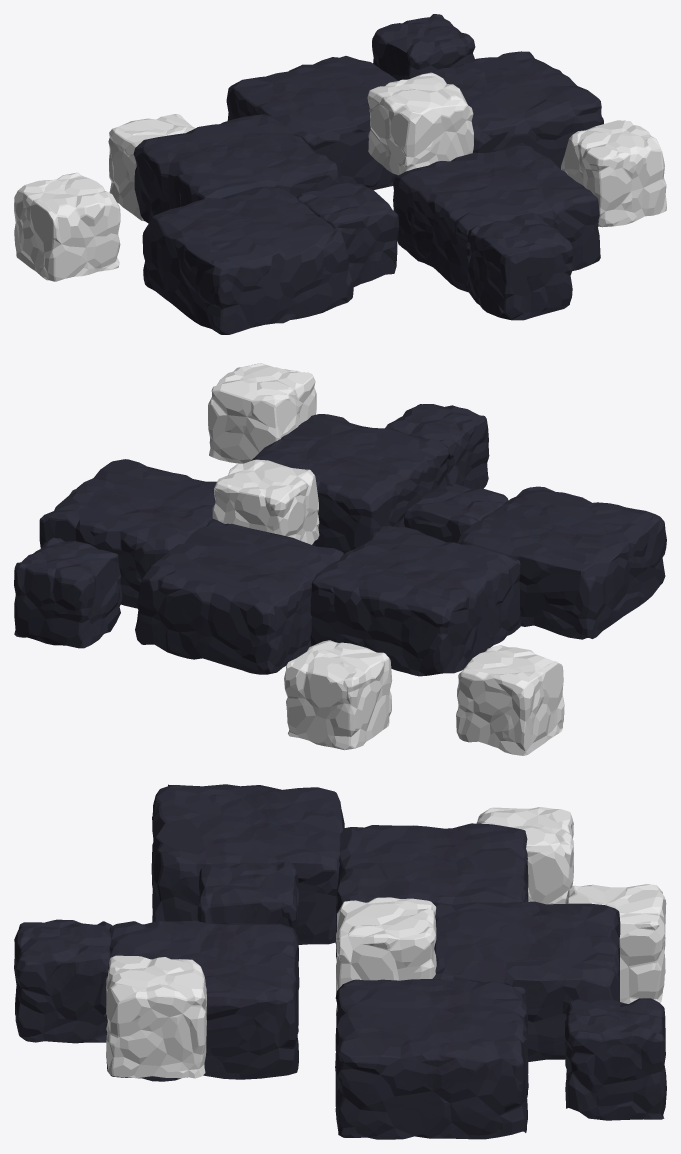
The picture shows the model from 3 angles, top to bottom: view 1: azimuth 30°, elevation 25°; view 2: azimuth 150°, elevation 25°; view 3: azimuth 270°, elevation 25°; orthographic projection. The views are drawn at different scales.
Visible parts, largest first — view 1: TestSceneBase.001; view 2: TestSceneBase.001; view 3: TestSceneBase.001.
Boxes of the visible parts, bbox=[...] form: TestSceneBase.001: bbox=[14, 14, 666, 334]; TestSceneBase.001: bbox=[14, 363, 666, 755]; TestSceneBase.001: bbox=[14, 784, 666, 1139].
Size of the model in its own units: 1521 by 407 by 1423.
